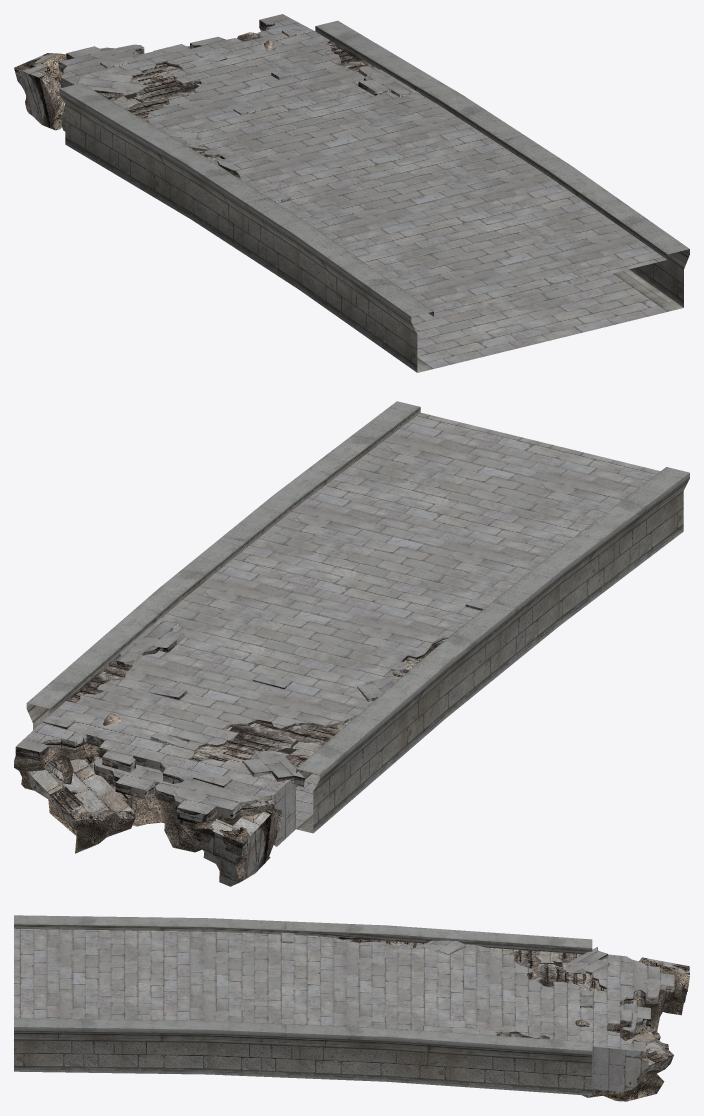
File: StairEnd1.fbx
The picture shows the model from 3 angles, top to bottom: view 1: azimuth 30°, elevation 25°; view 2: azimuth 150°, elevation 25°; view 3: azimuth 270°, elevation 25°; orthographic projection. The views are drawn at different scales.
Parts seen in each view (by area): view 1: LV_Nigratruis_Lower_CastleBridge_SM_SCY; view 2: LV_Nigratruis_Lower_CastleBridge_SM_SCY; view 3: LV_Nigratruis_Lower_CastleBridge_SM_SCY.
Part boxes in pixels (<box>): LV_Nigratruis_Lower_CastleBridge_SM_SCY: <box>14,14,689,372</box>; LV_Nigratruis_Lower_CastleBridge_SM_SCY: <box>14,401,689,886</box>; LV_Nigratruis_Lower_CastleBridge_SM_SCY: <box>14,915,689,1101</box>.
Size of the model in its own units: 2 by 0.8606 by 5.12.
Materials: 4 (4 with a texture image).
